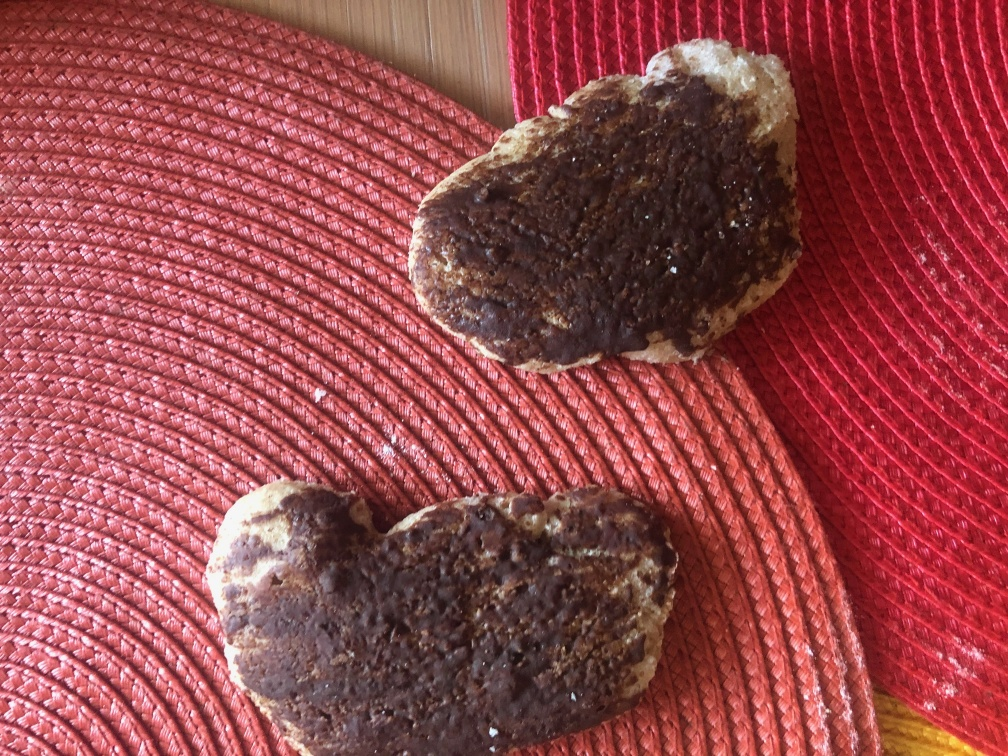weird #1: (405, 25, 818, 376), (191, 471, 689, 753)
